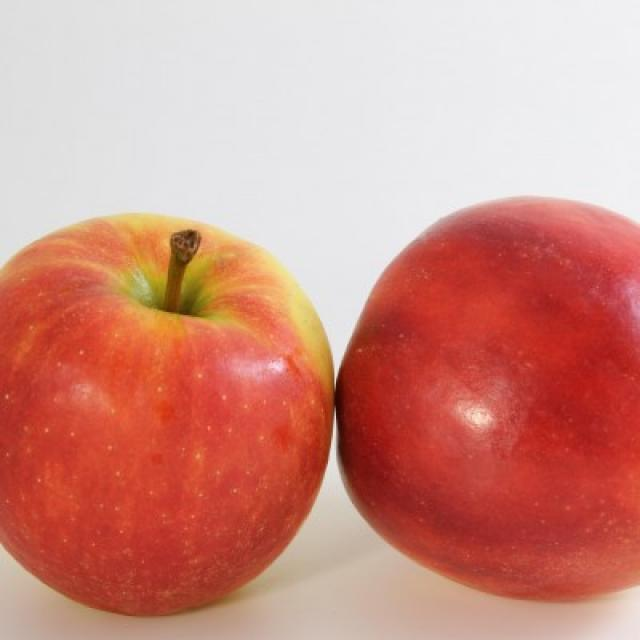Apple: (0, 206, 341, 613), (330, 192, 640, 603)
